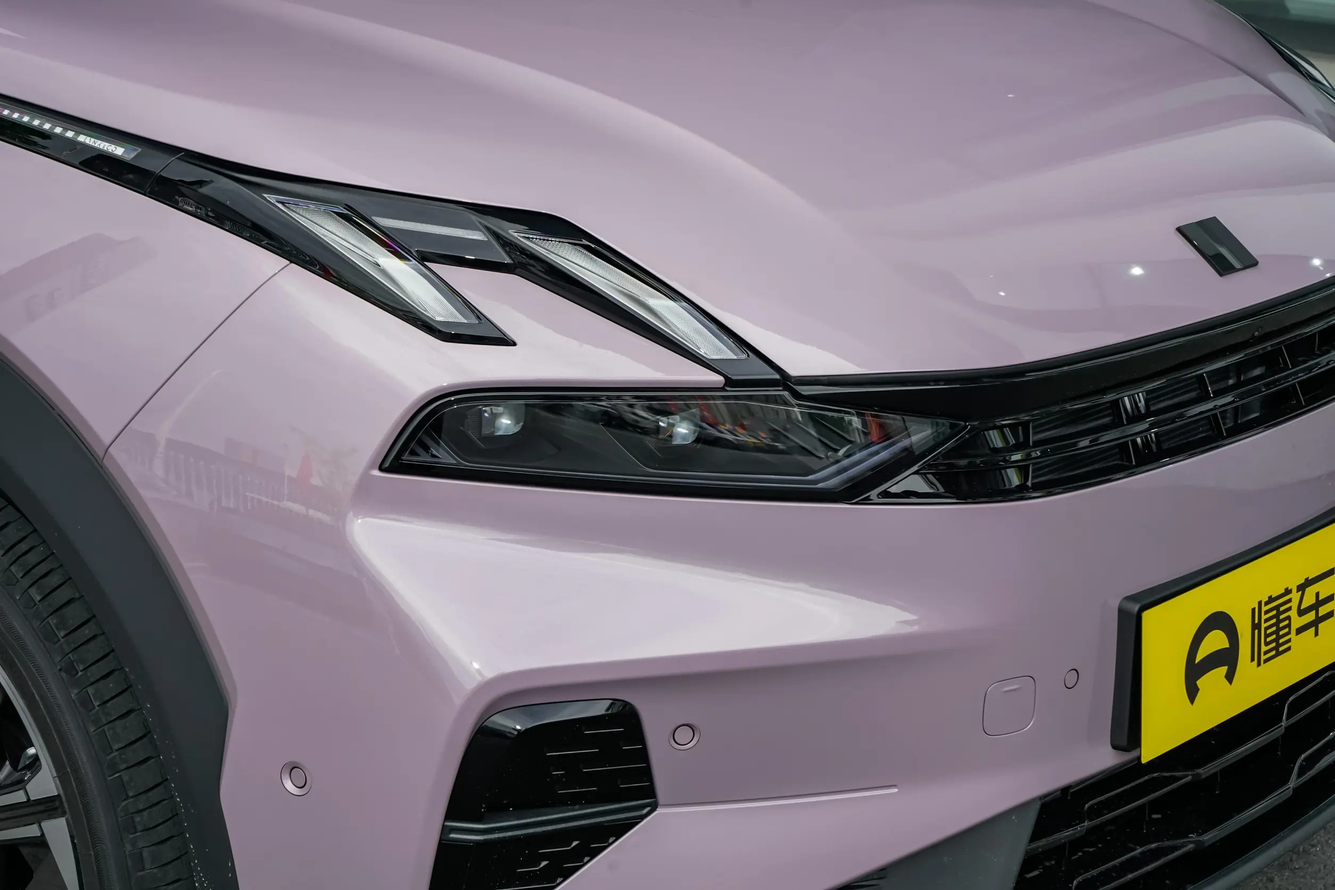LINK&CO: (1176, 217, 1258, 276)
